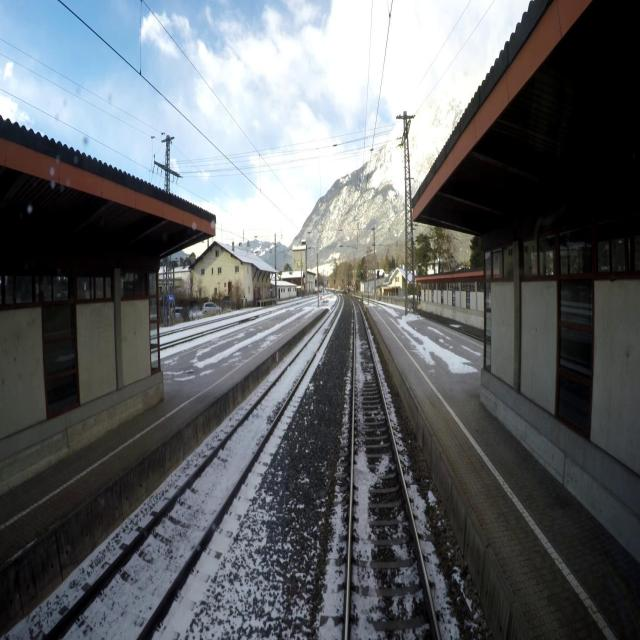rail-track: (349, 299, 436, 639)
